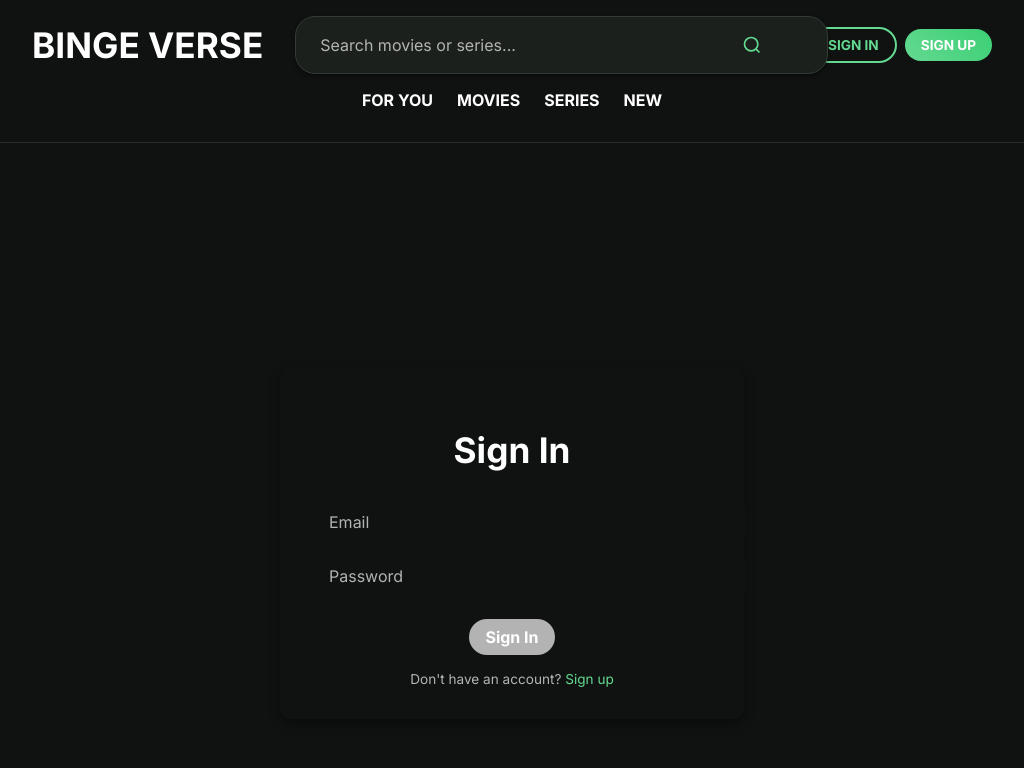
Authentication › shows error for invalid credentials
Type "wrong@example.com" into the field with placeholder "Email" at (529, 522), box x1=312 y1=503 x2=746 y2=541
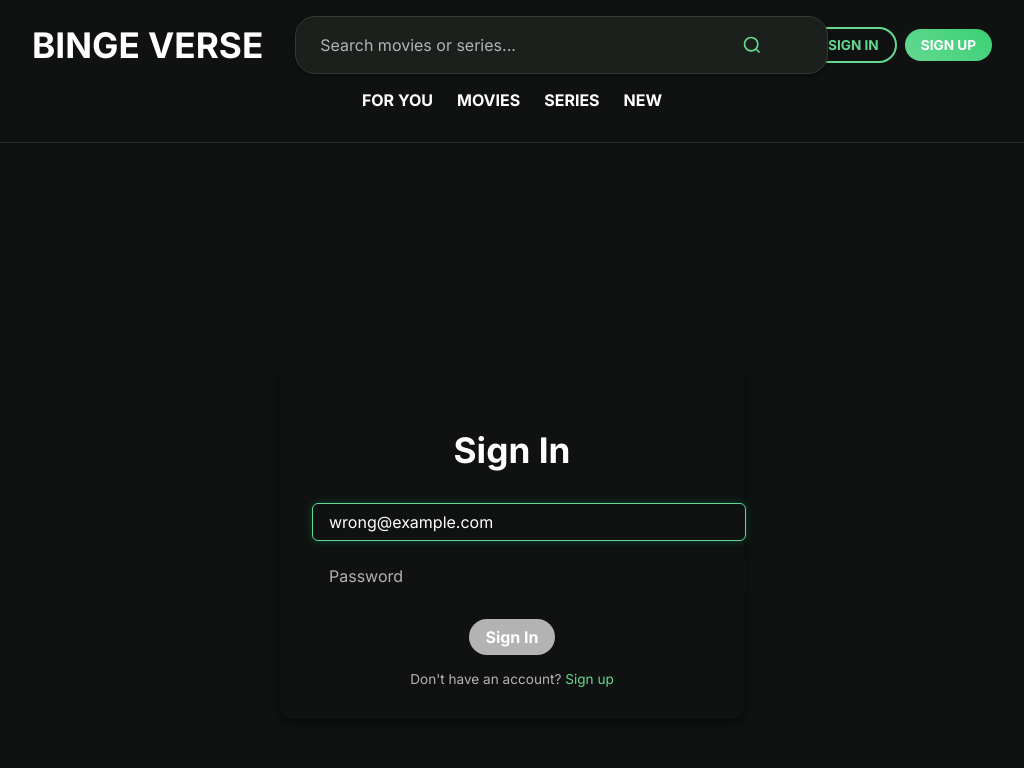
Type "wrong" into the password field with placeholder "Password" at (529, 576), box x1=312 y1=557 x2=746 y2=595
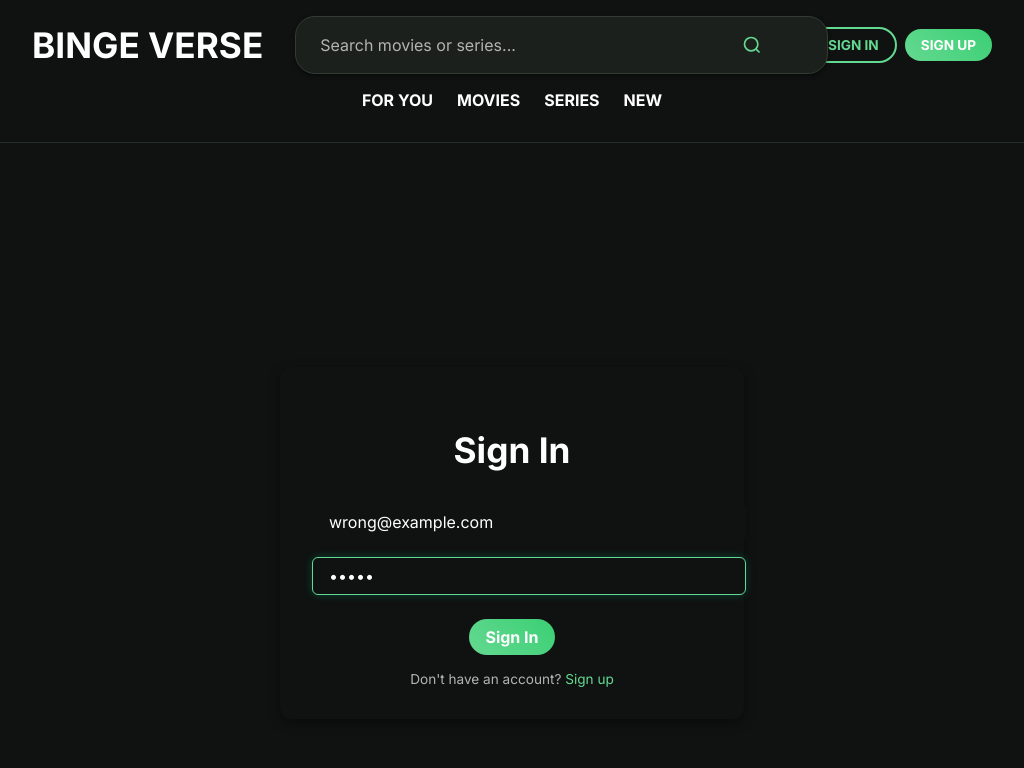
Click the submit button at (512, 637), box x1=469 y1=619 x2=554 y2=655
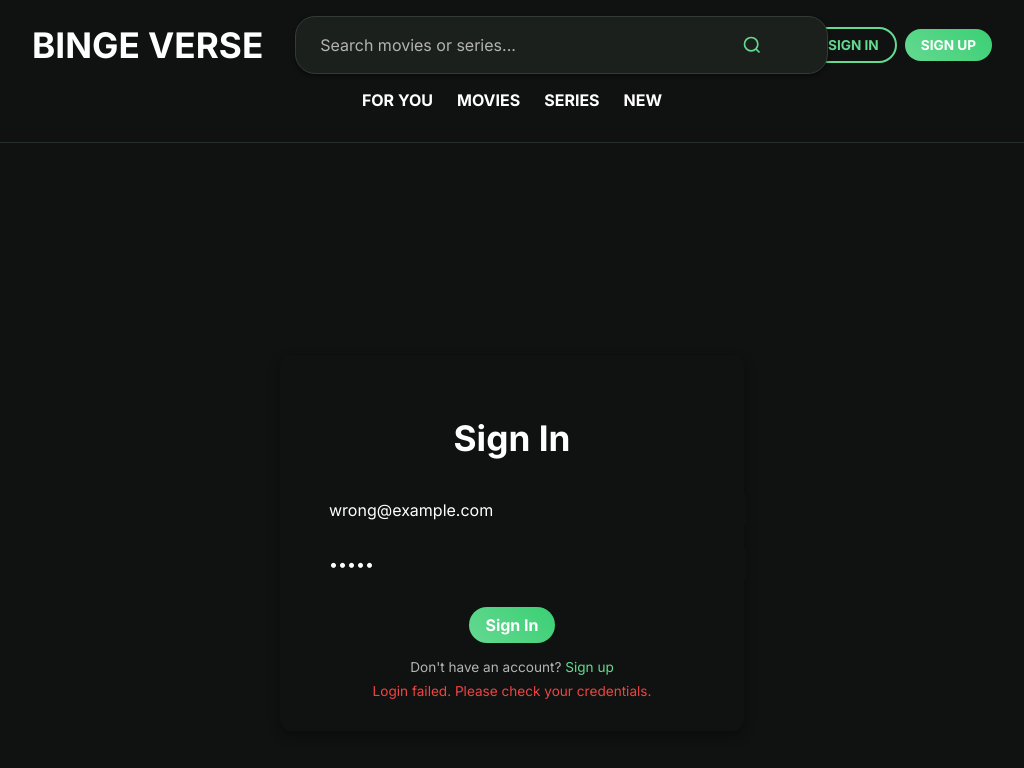
Expected: the text "Login failed" is shown, x1=373 y1=683 x2=652 y2=699
